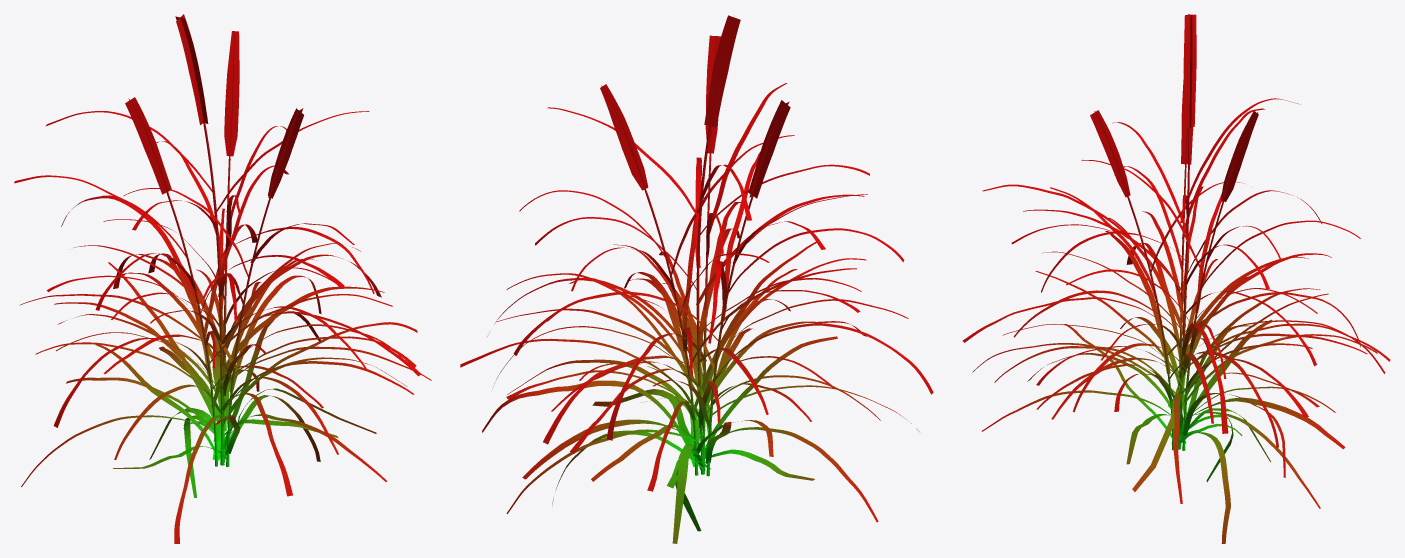
The model's file is slglZ_Var4_LOD0.fbx.
The picture shows the model from 3 angles, left to right: view 1: azimuth 30°, elevation 25°; view 2: azimuth 150°, elevation 25°; view 3: azimuth 270°, elevation 25°; orthographic projection. The views are drawn at different scales.
Visible parts, largest first — view 1: _a175_Var4_LOD0; view 2: _a175_Var4_LOD0; view 3: _a175_Var4_LOD0.
Boxes of the visible parts, box(x1,y1,x2,y2) form: _a175_Var4_LOD0: box(14, 14, 431, 543); _a175_Var4_LOD0: box(460, 15, 933, 543); _a175_Var4_LOD0: box(962, 14, 1390, 543).
Size of the model in its own units: 48.21 by 60.2 by 50.77.
